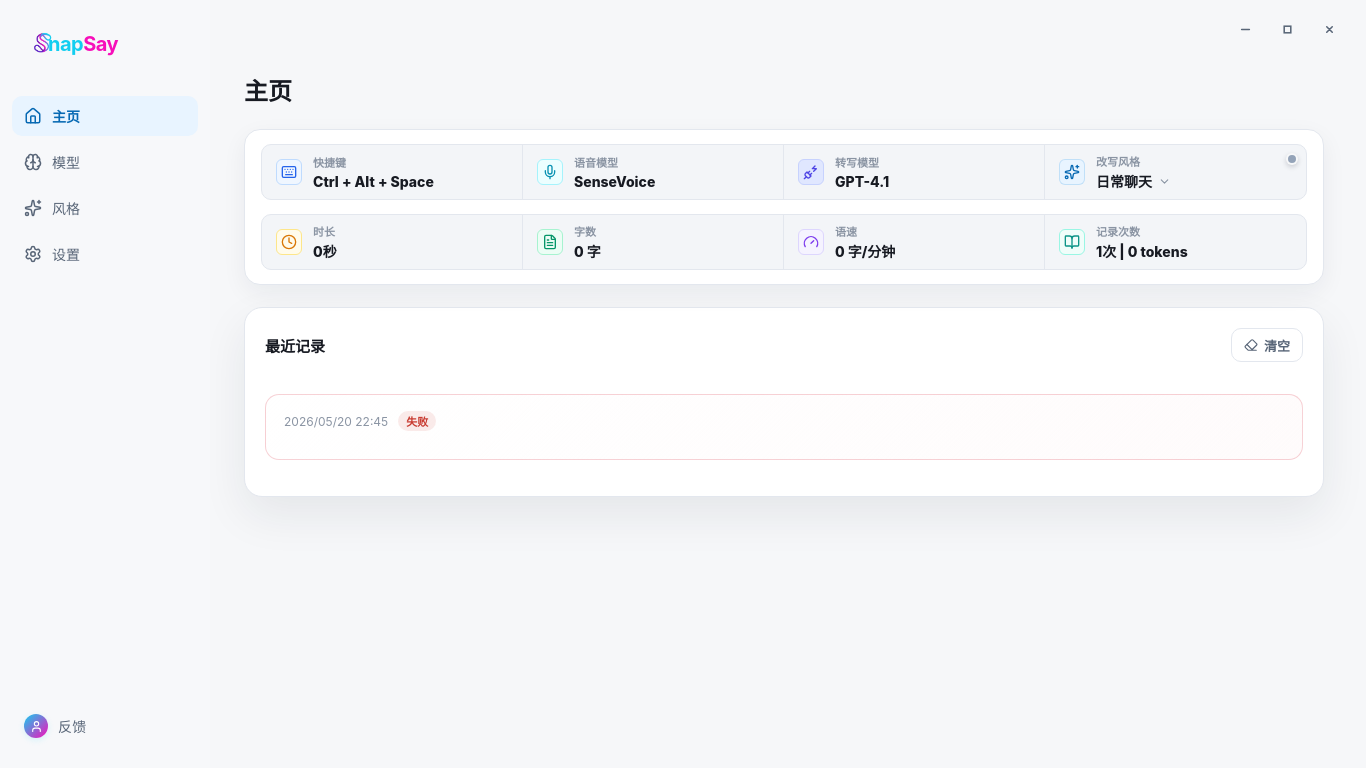
Test: SnapSay main renderer › clears diagnostic logs without clearing recent records
Expected: the text "失败" is shown, [398, 411, 436, 431]
Click the button "设置" at (105, 254), box [12, 234, 198, 274]
(page scrolled)
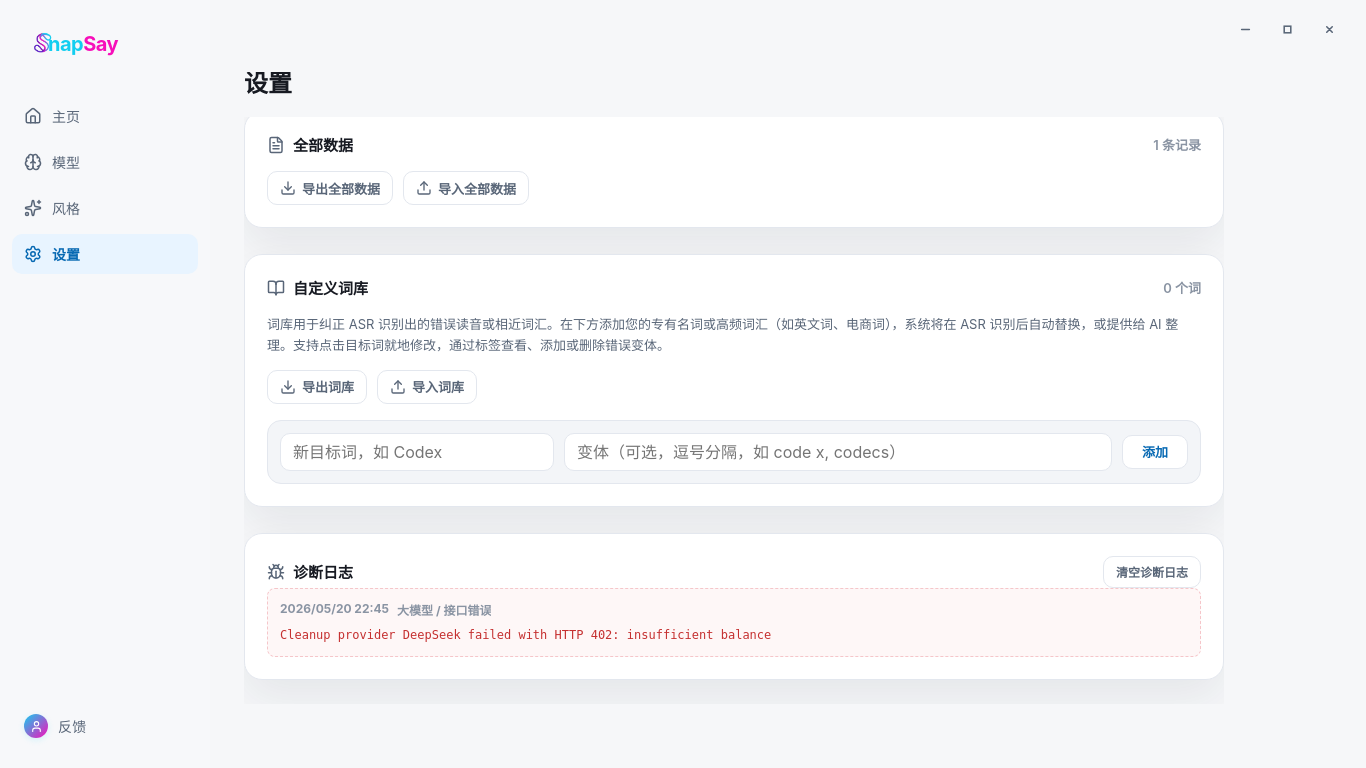
Expected: the text "Cleanup provider DeepSeek failed with HTTP 402: insufficient balance" is shown, [280, 628, 771, 642]
Click the button "清空诊断日志" at (1152, 572), box [1103, 556, 1201, 588]
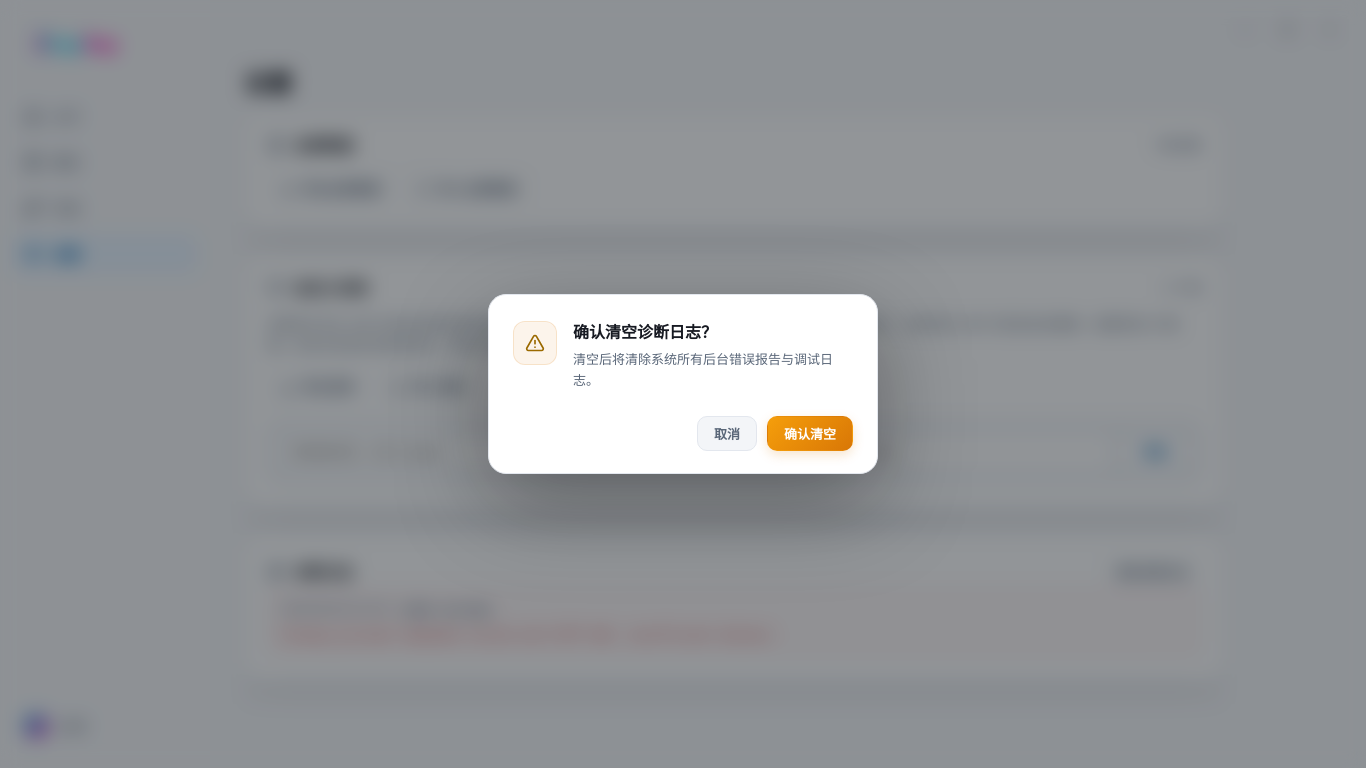
Click the button "确认清空" at (810, 434), box [767, 416, 853, 452]
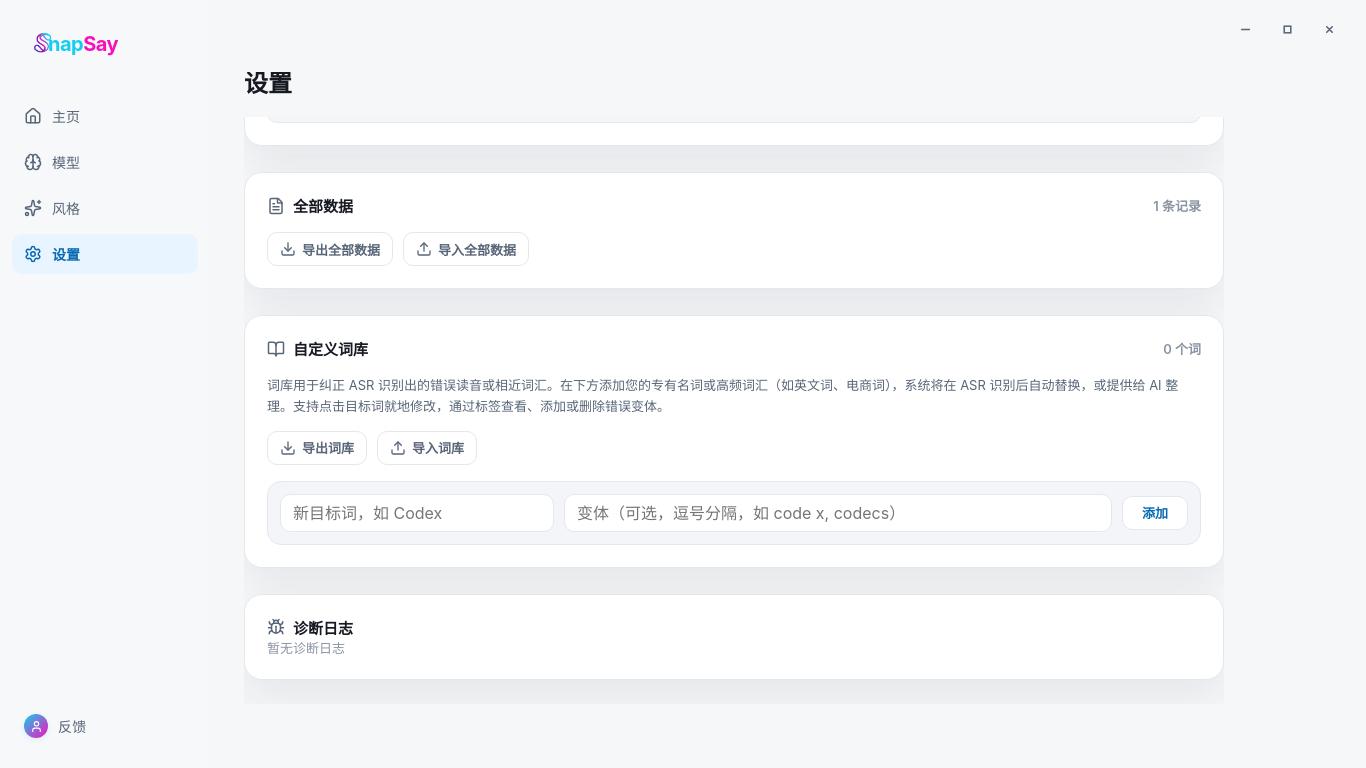
Expected: the text "暂无诊断日志" is shown, [267, 640, 345, 656]
Click the button "主页" at (105, 116), box [12, 96, 198, 136]
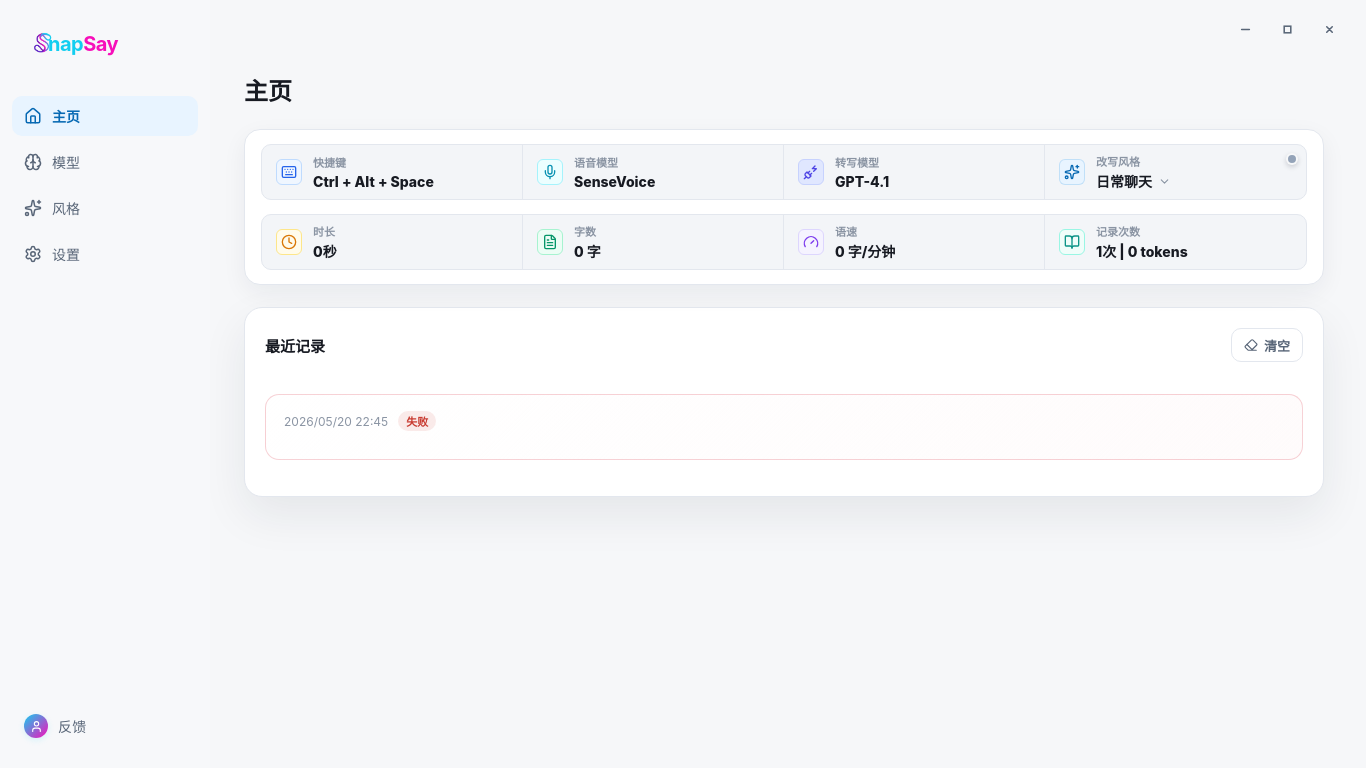
Expected: the text "失败" is shown, [398, 411, 436, 431]
